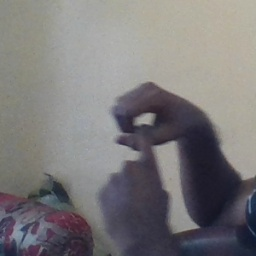Q: (95, 78, 192, 222)
